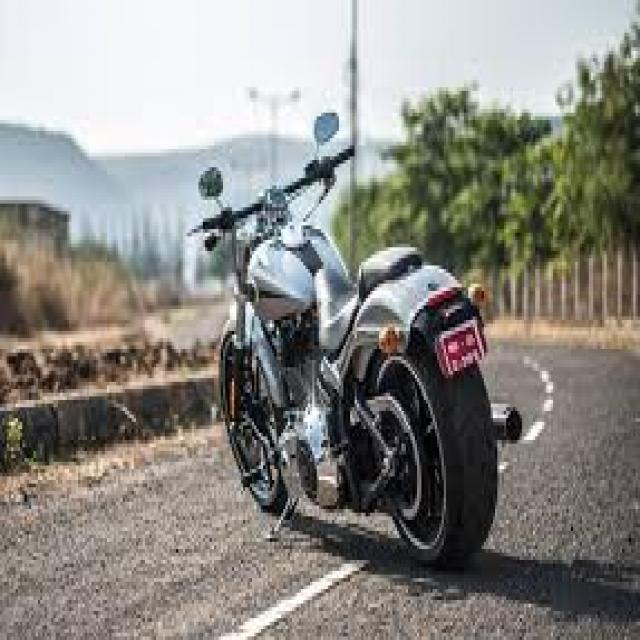Bike: (187, 112, 524, 571)
